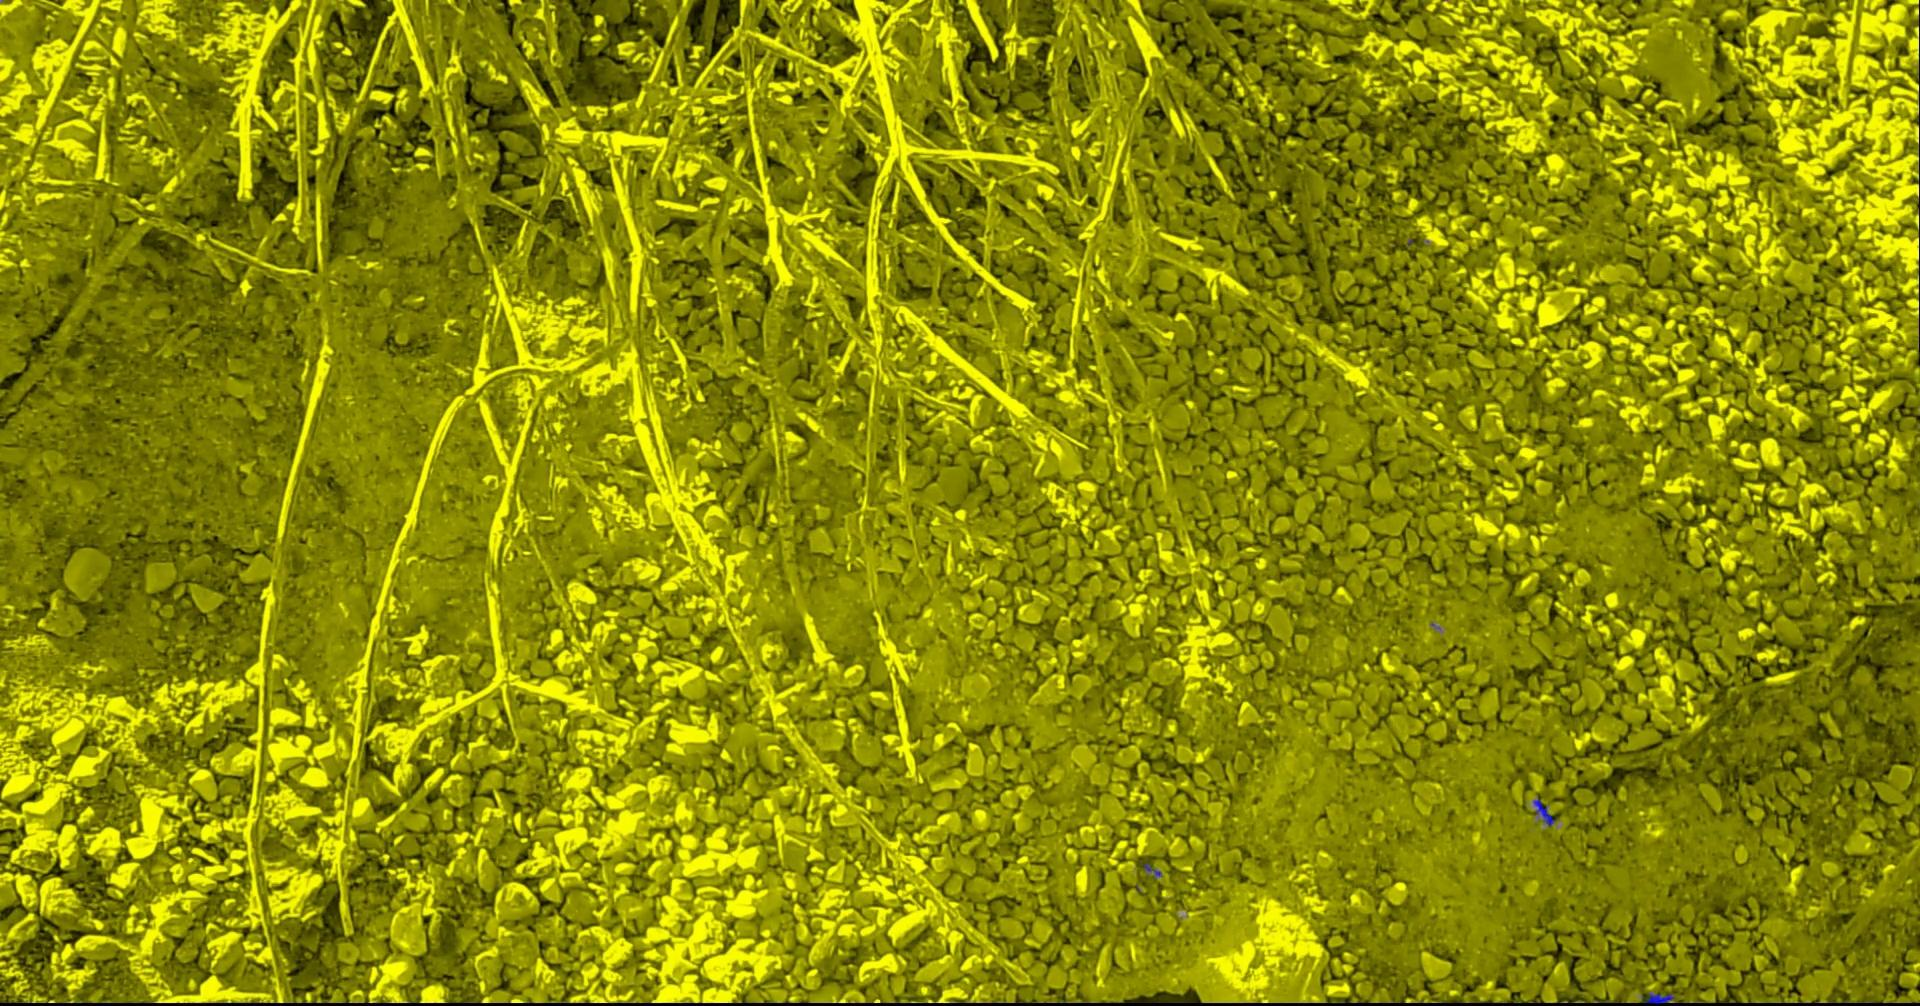ant: (1533, 798, 1556, 826), (1642, 992, 1674, 1005), (1143, 862, 1161, 876)
